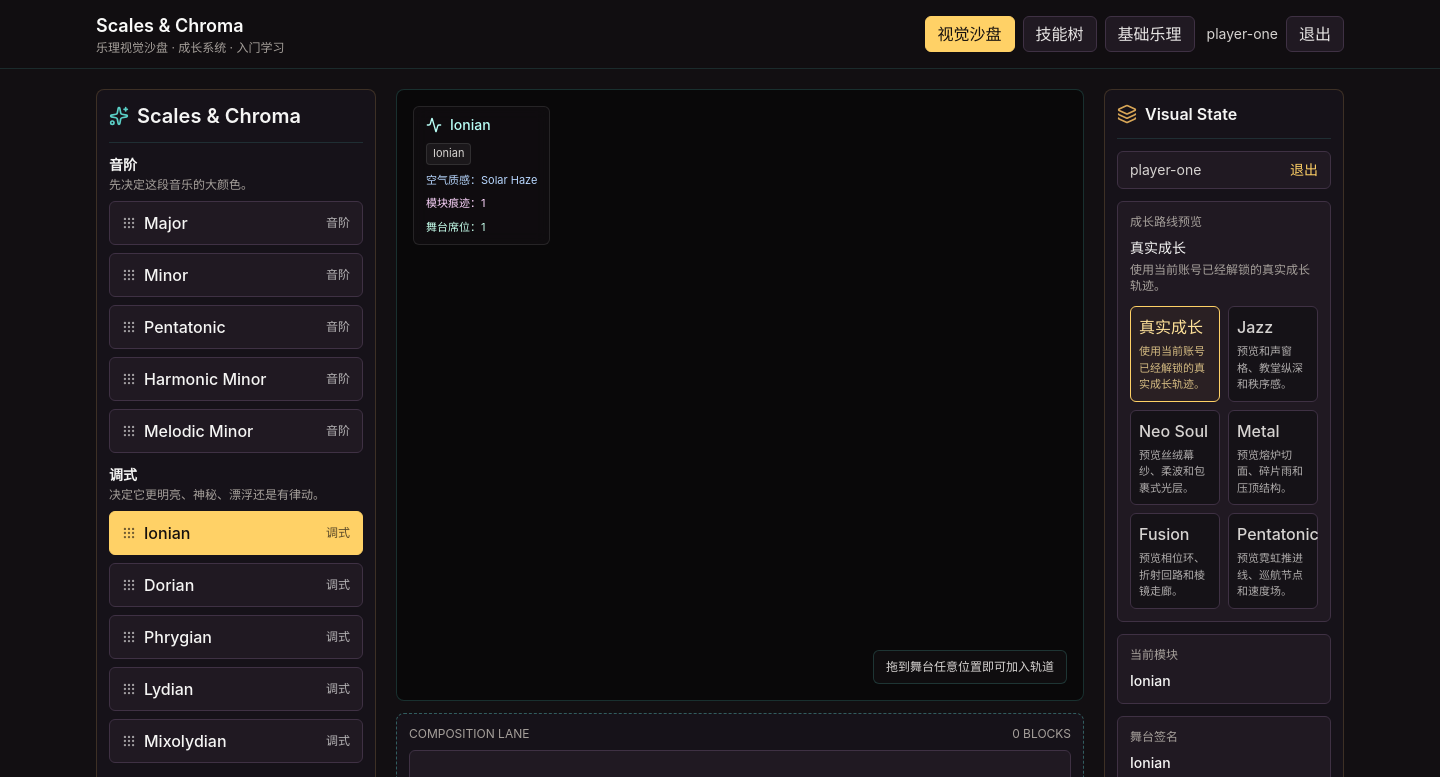
Scenario: learning pages › navigates from the sandbox to skill tree and theory guide sections
The width and height of the screenshot is (1440, 777).
Expected: the button "视觉沙盘" is shown, [925,16,1015,52]
Step 1. Click the button "技能树" → point(1060, 34), box [1023,16,1097,52]
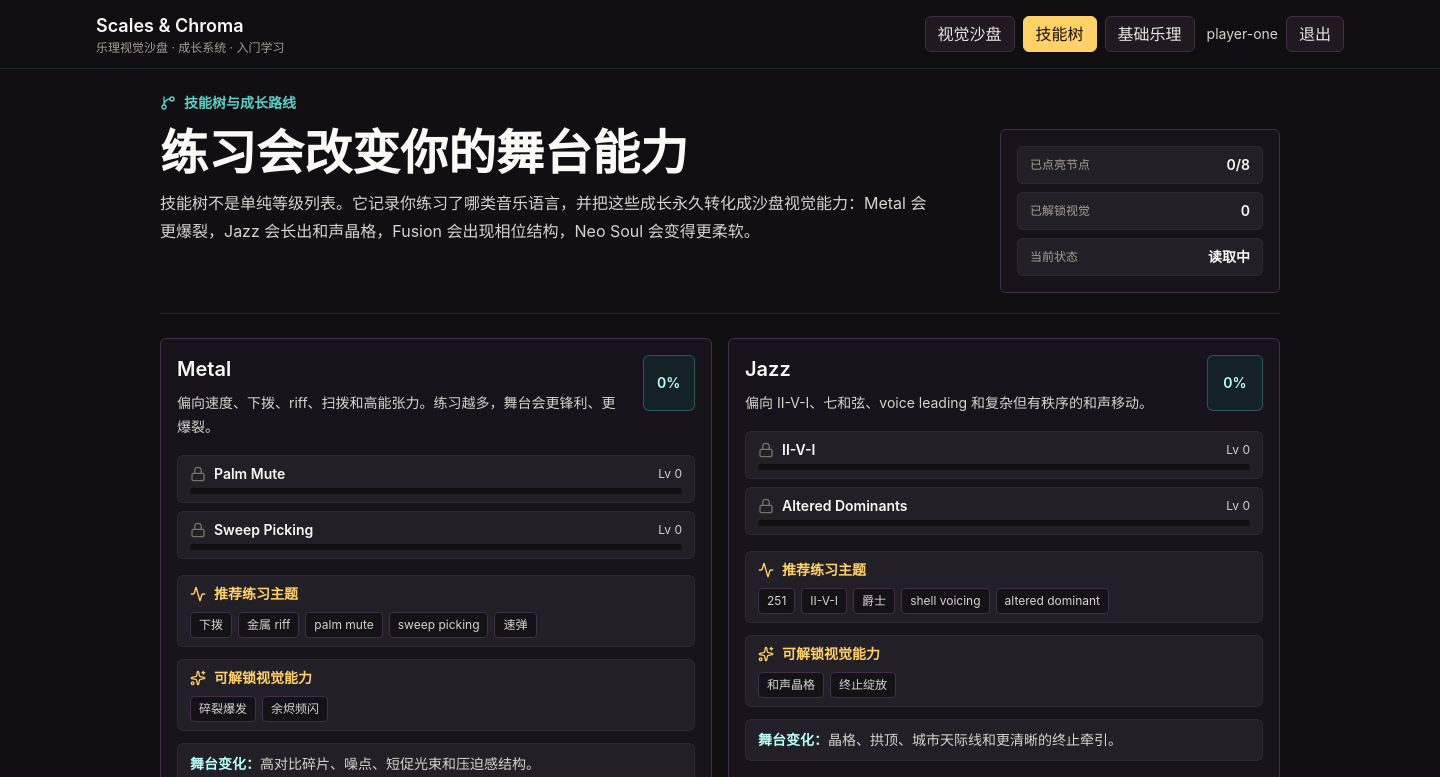
Expected: the heading "练习会改变你的舞台能力" is shown, [160,123,688,182]
Step 2. Click the button "基础乐理" → point(1150, 34), box [1105,16,1195,52]
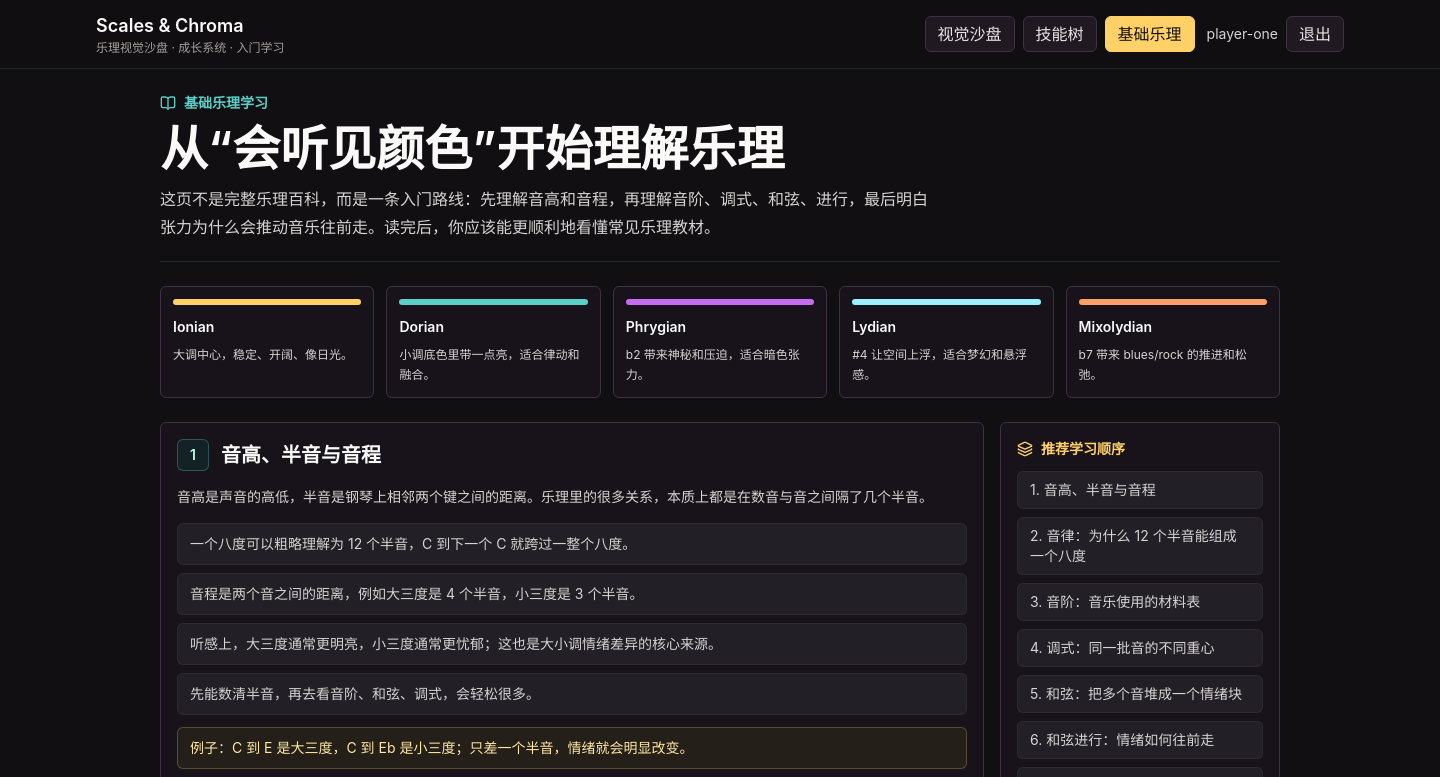
Expected: the heading "从“会听见颜色”开始理解乐理" is shown, [160,119,784,178]
Expected: the heading "音高、半音与音程" is shown, [221,441,381,469]
